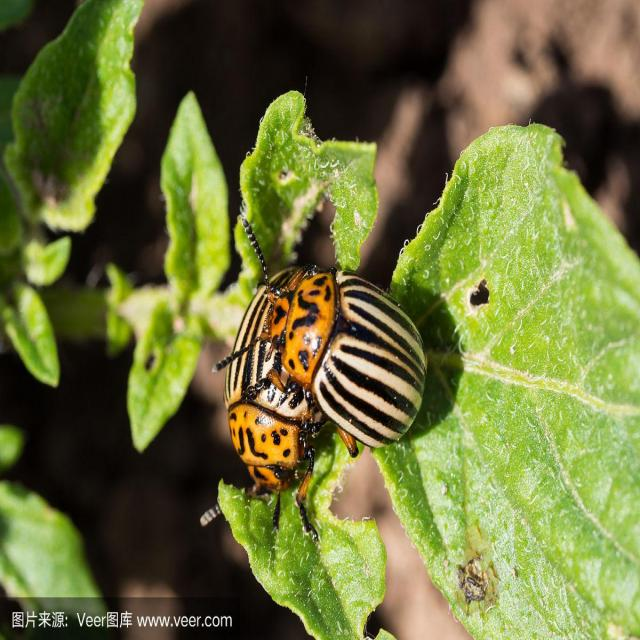ShuCaiHuaBanChong-Grown-: (265, 258, 442, 467), (224, 266, 336, 498)
